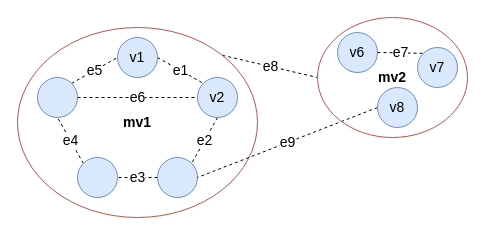
Some shapes in this 485 by 235 pixel diagram are drawn without their labels. Here are the shapes that lost their labels. From the top down, the centre of each, then its label:
pixel 57 97: v5
pixel 97 177: v4
pixel 177 177: v3
